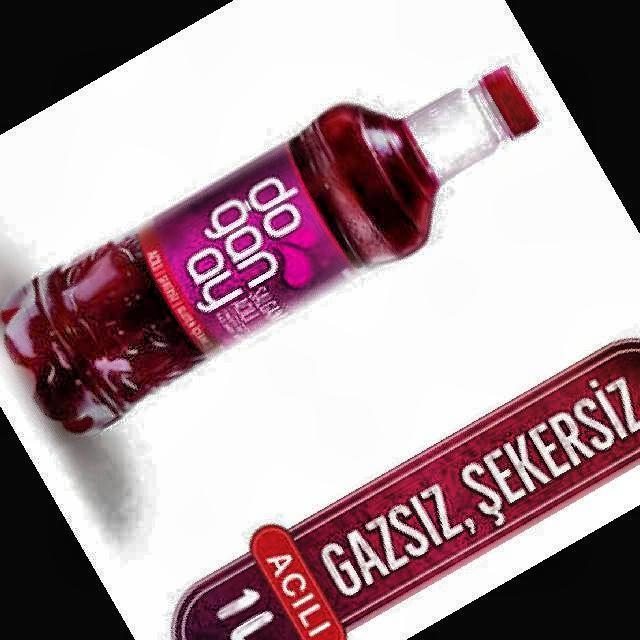plastic: (0, 68, 538, 432)
